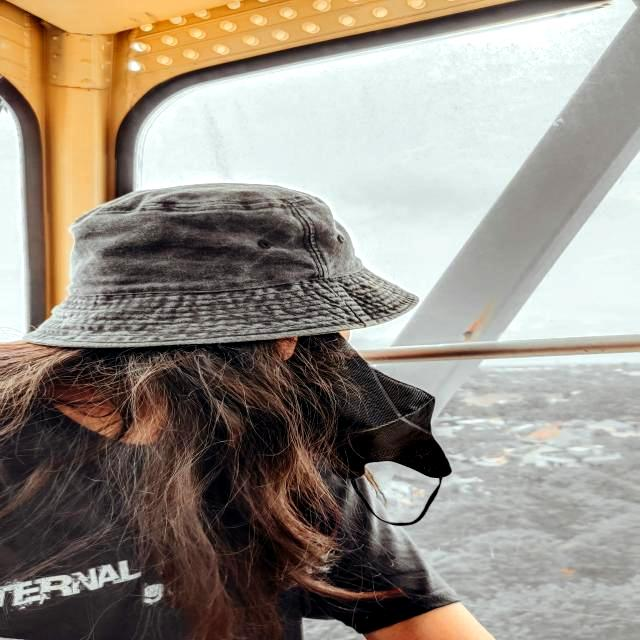no_hard_hat: (26, 183, 418, 348)
person: (0, 180, 495, 639)
